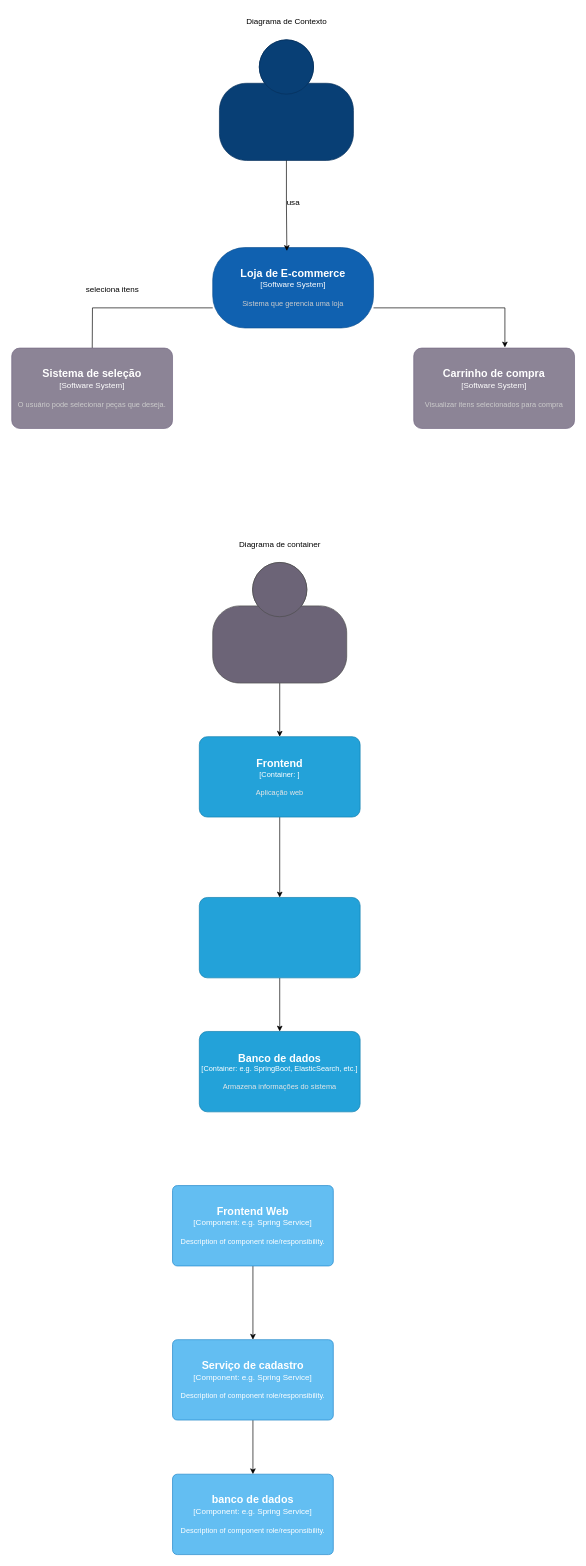
The diagram is 586 pixels wide and 1566 high, and some of its shapes have lost their labels. Each missing label, with the centre of its shape:
"Backend [Container: ] APi backend" goes at point (279, 937).
"Usuário [Person] Cliente do e-commerce" goes at point (286, 99).
"Usuário [Usuário] Usuário que interage com o sistema" goes at point (279, 622).
